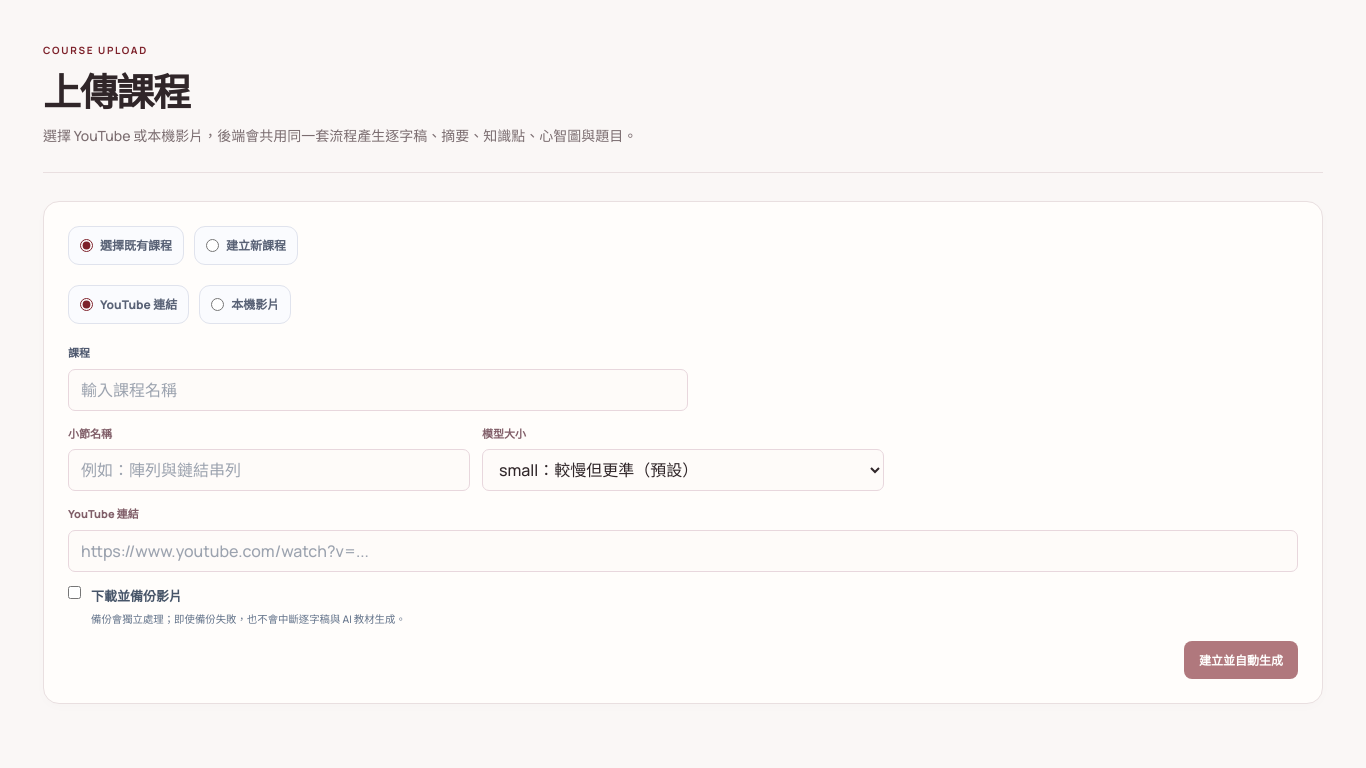
Scenario: starts empty and lets the teacher search for a course
Expected: the radio button labelled "YouTube 連結" is checked, x1=80 y1=298 x2=93 y2=311
Expected: the radio button labelled "本機影片" is shown, x1=211 y1=298 x2=224 y2=311
Type "資料" into the dropdown labelled "課程" at (378,390), box x1=68 y1=369 x2=688 y2=411
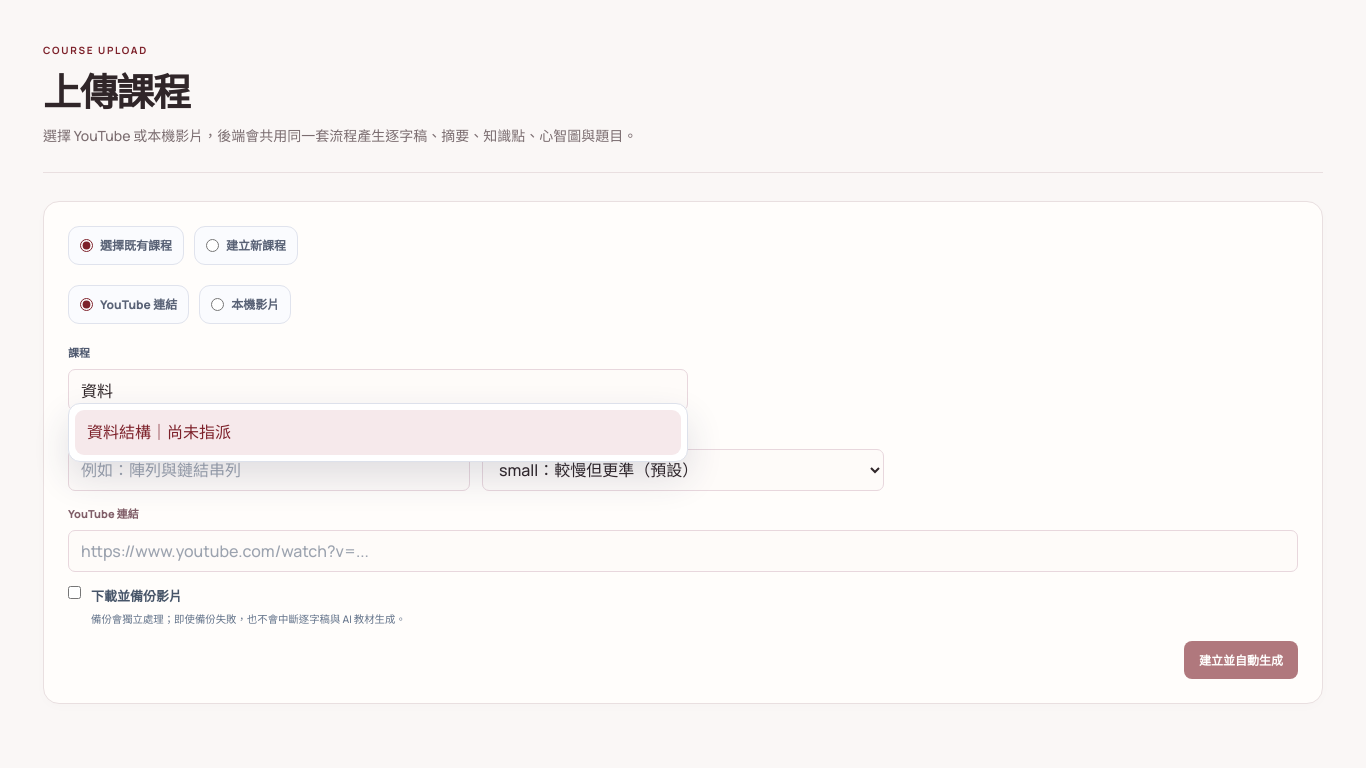
Click the option "資料結構｜尚未指派" at (159,432), box x1=75 y1=410 x2=681 y2=455
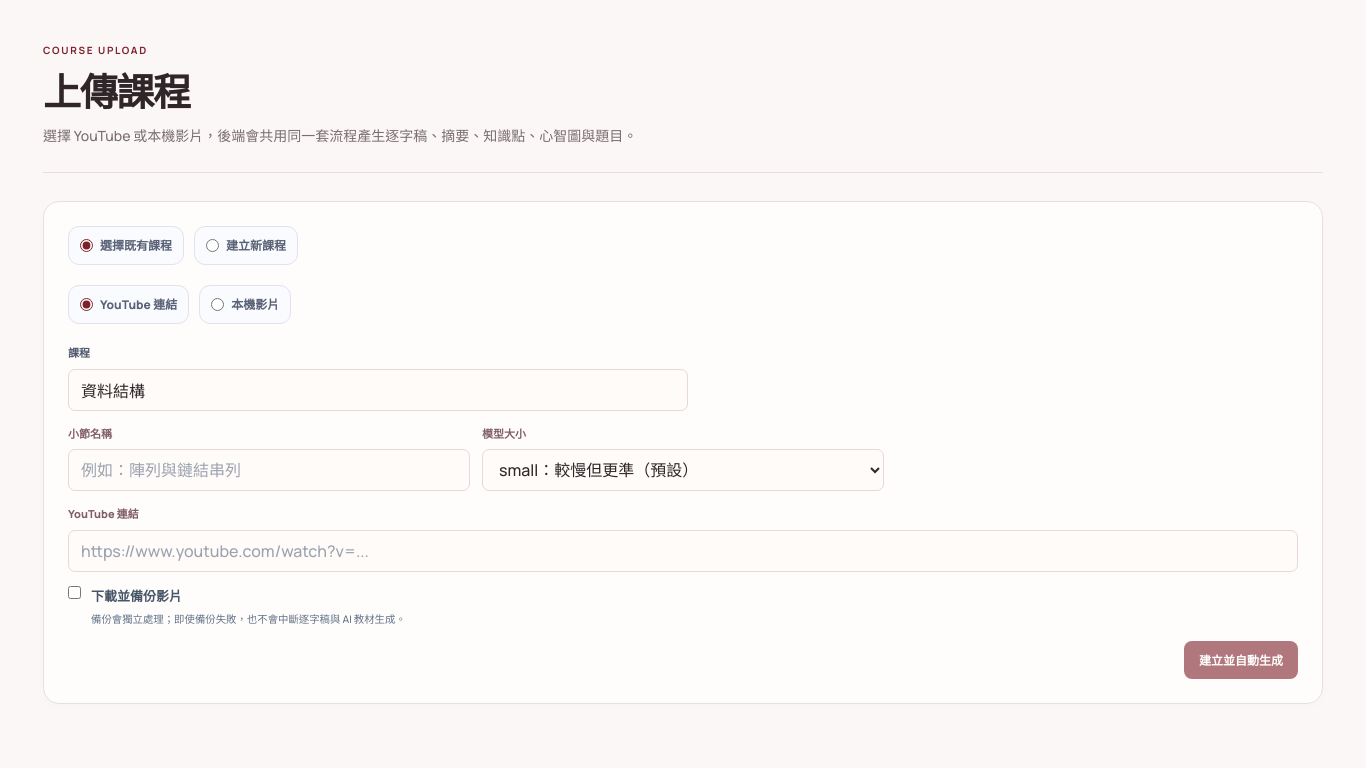
Expected: the dropdown labelled "課程" holds "資料結構", x1=68 y1=369 x2=688 y2=411
